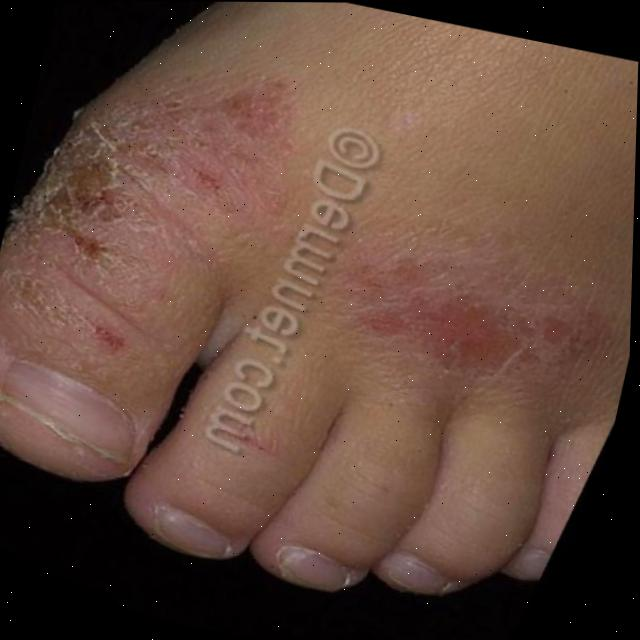Eczema: (0, 34, 639, 563)
